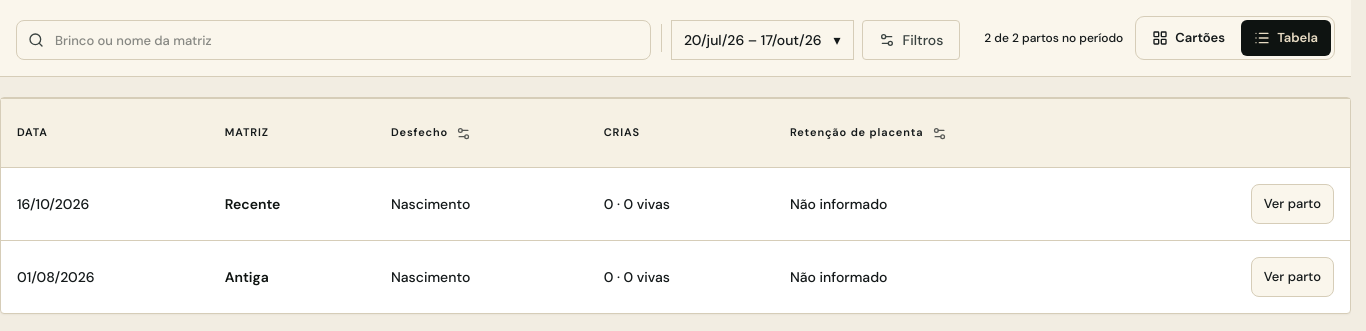
Test: distingue busca vazia de período sem partos e conserva datas ao limpar
The width and height of the screenshot is (1366, 331).
Type "inexistente" into the search field named "Buscar matriz" at (333, 40), box [16, 20, 651, 60]
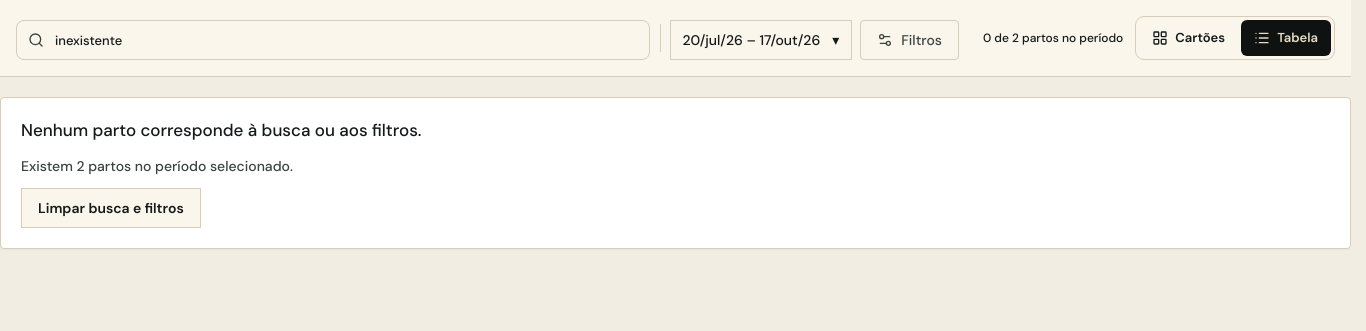
Check: the text "Nenhum parto corresponde à busca ou aos filtros." is shown, box [21, 119, 422, 141]
Click the button "Limpar busca e filtros" at (111, 208), box [21, 188, 201, 228]
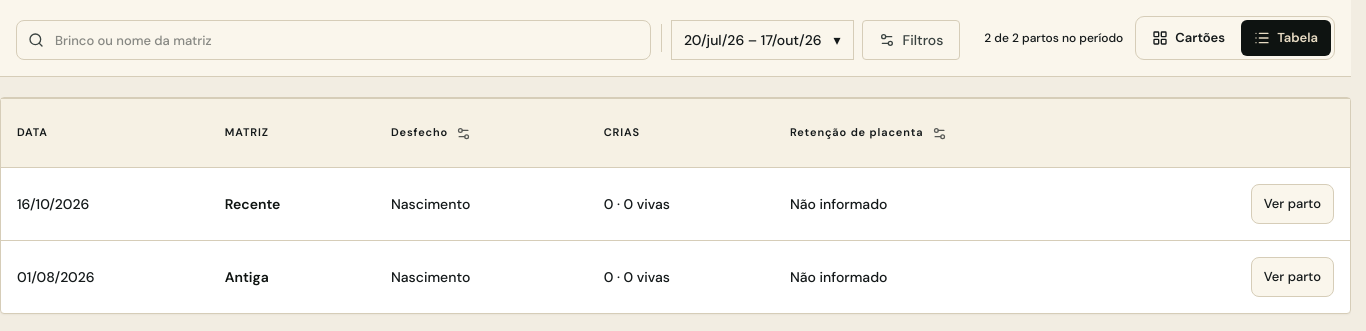
Check: the text "Recente" is shown, box [225, 195, 280, 213]
